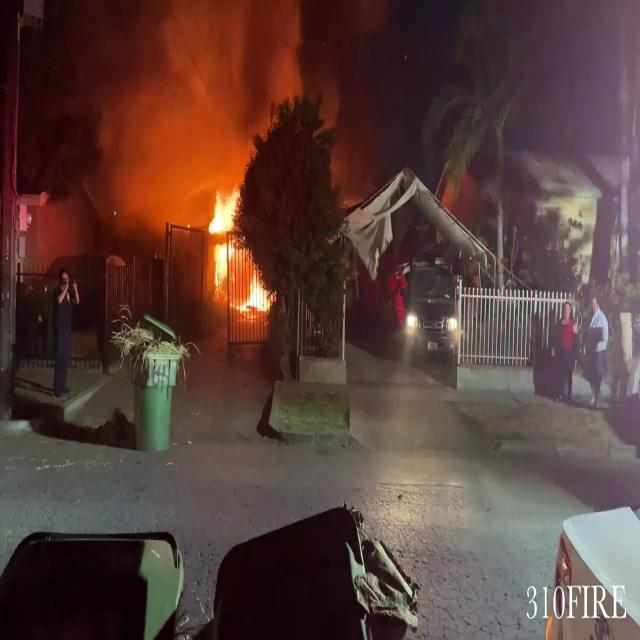Fire: (200, 174, 276, 321)
Smoke: (71, 0, 311, 220)
